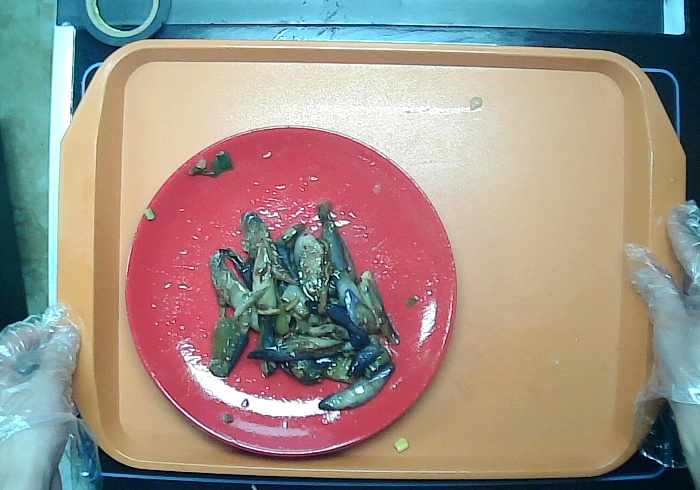HZYJPL-Hong_Se_Yuan_Pan: (118, 121, 463, 465)
